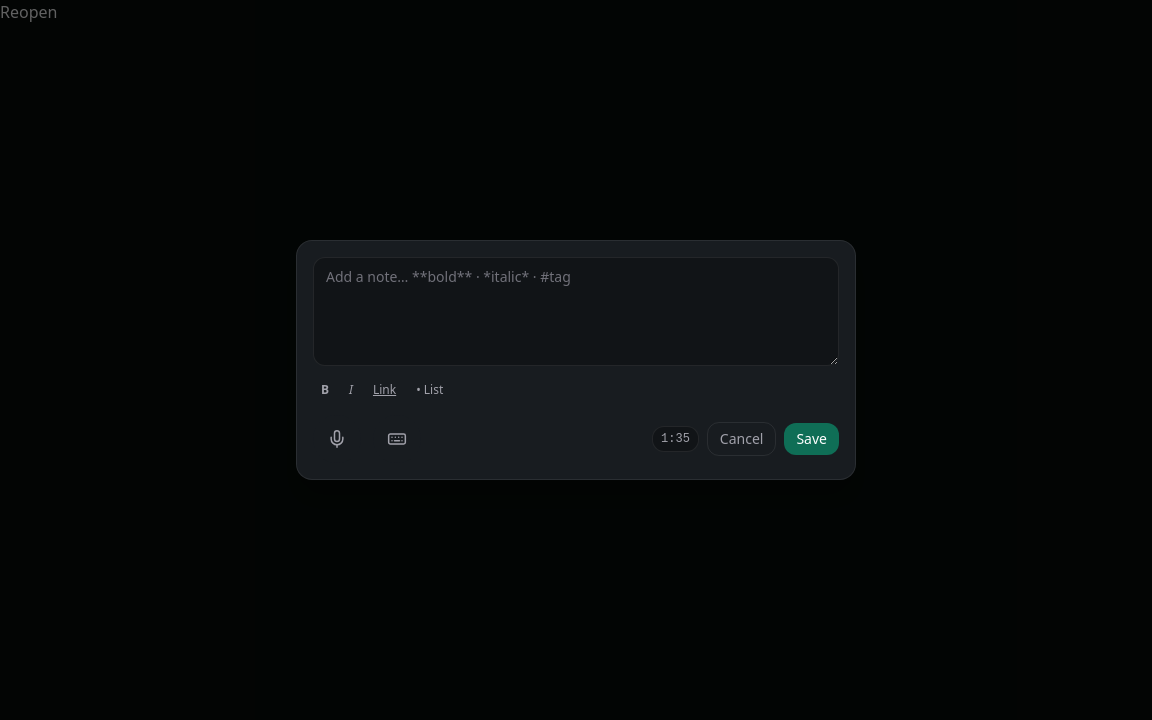
Test case: CommentEditorSheet › Esc while recording cancels the recording and keeps the draft
Expected: the button with test id "voice-mic" is enabled, 313,415 -> 361,463
Type "kept text" into the text box named "Comment" at (576, 312), box 313,257 -> 839,366
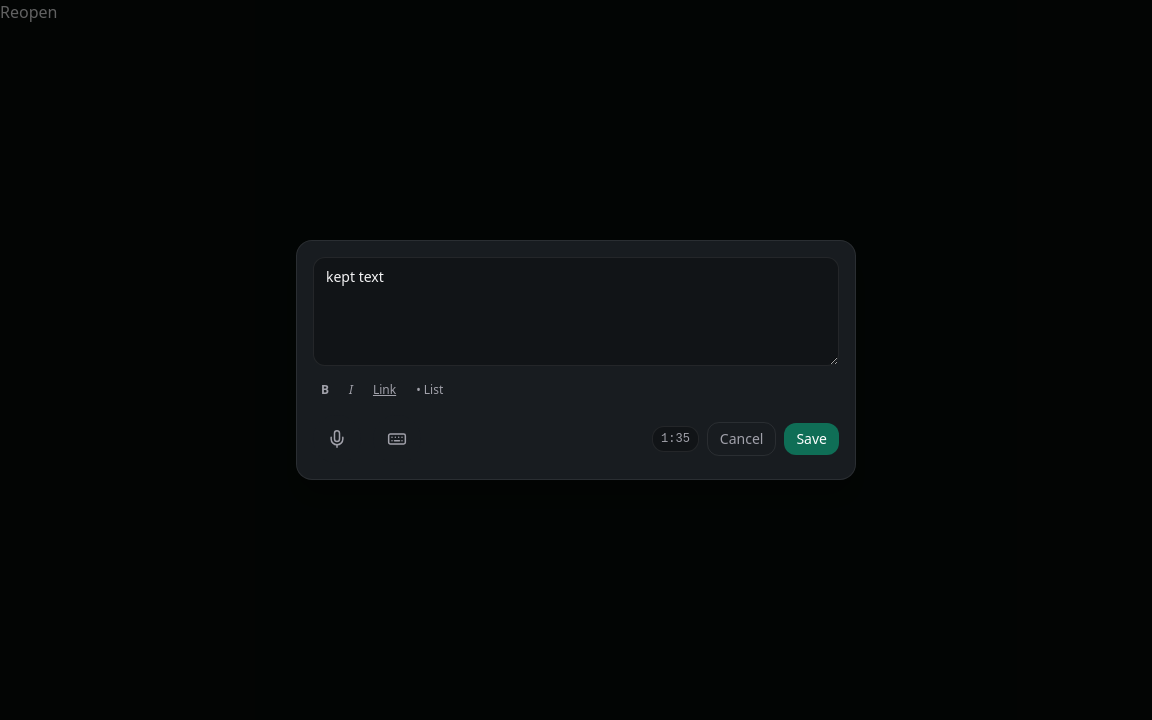
Click the button with test id "voice-mic" at (337, 439), box 313,415 -> 361,463
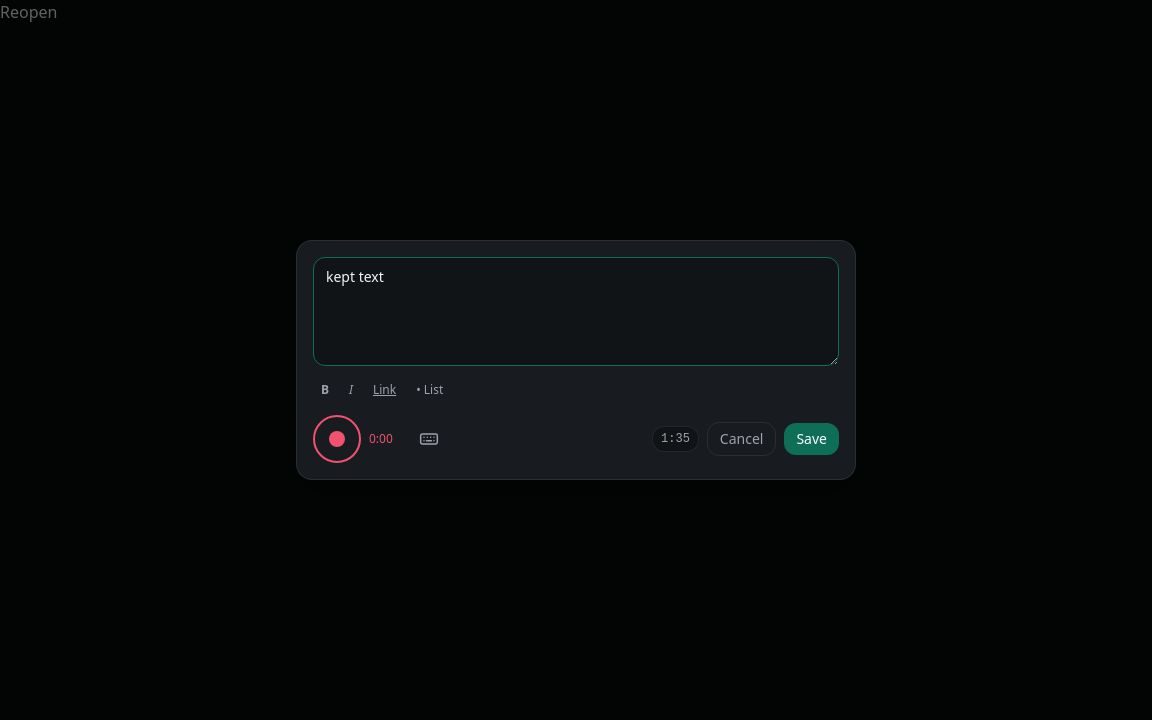
Expected: the text "0:00" is shown, 369,431 -> 393,447
Press Escape in the text box named "Comment", box 313,257 -> 839,366
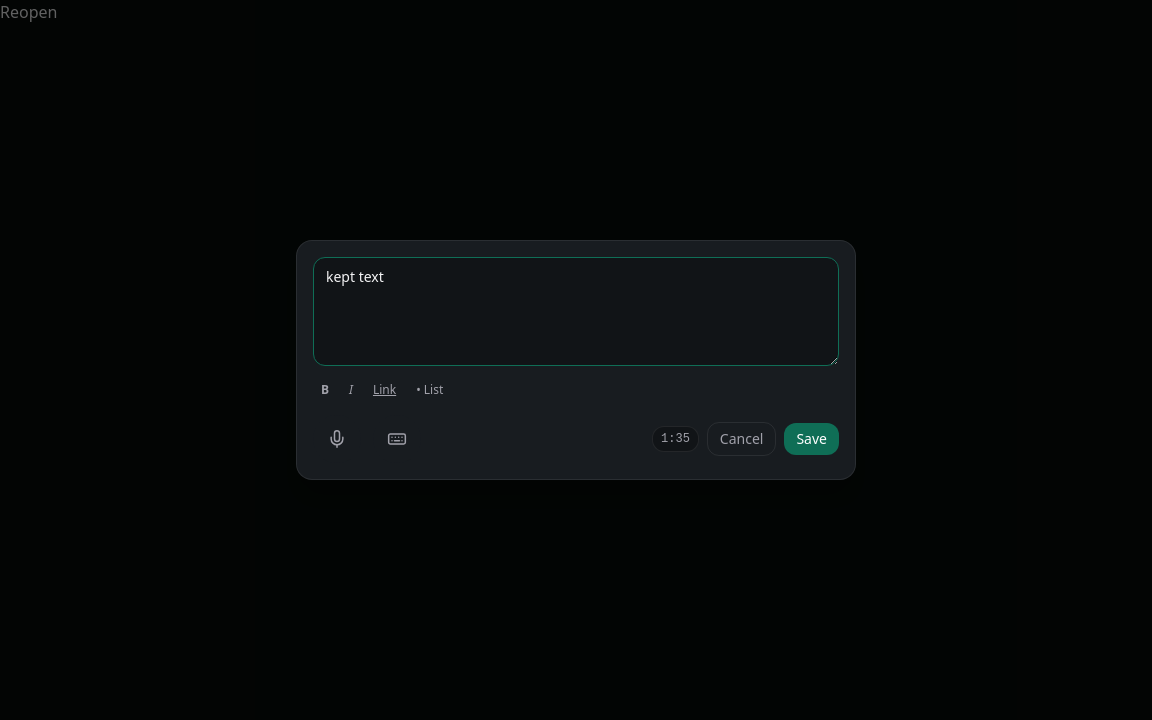
Expected: the dialog with test id "comment-editor-sheet" is shown, 296,240 -> 856,480
Expected: the text with test id "voice-elapsed" is gone
